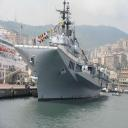Portanaves: (15, 1, 112, 104)
